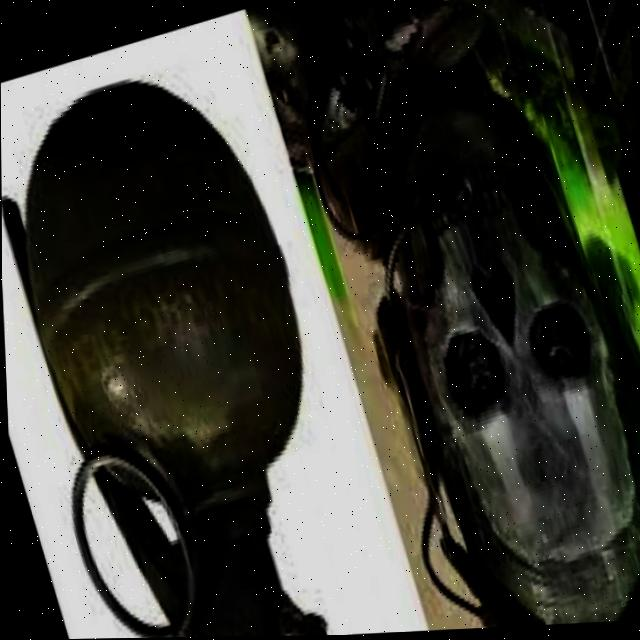grenade: (0, 41, 393, 640)
